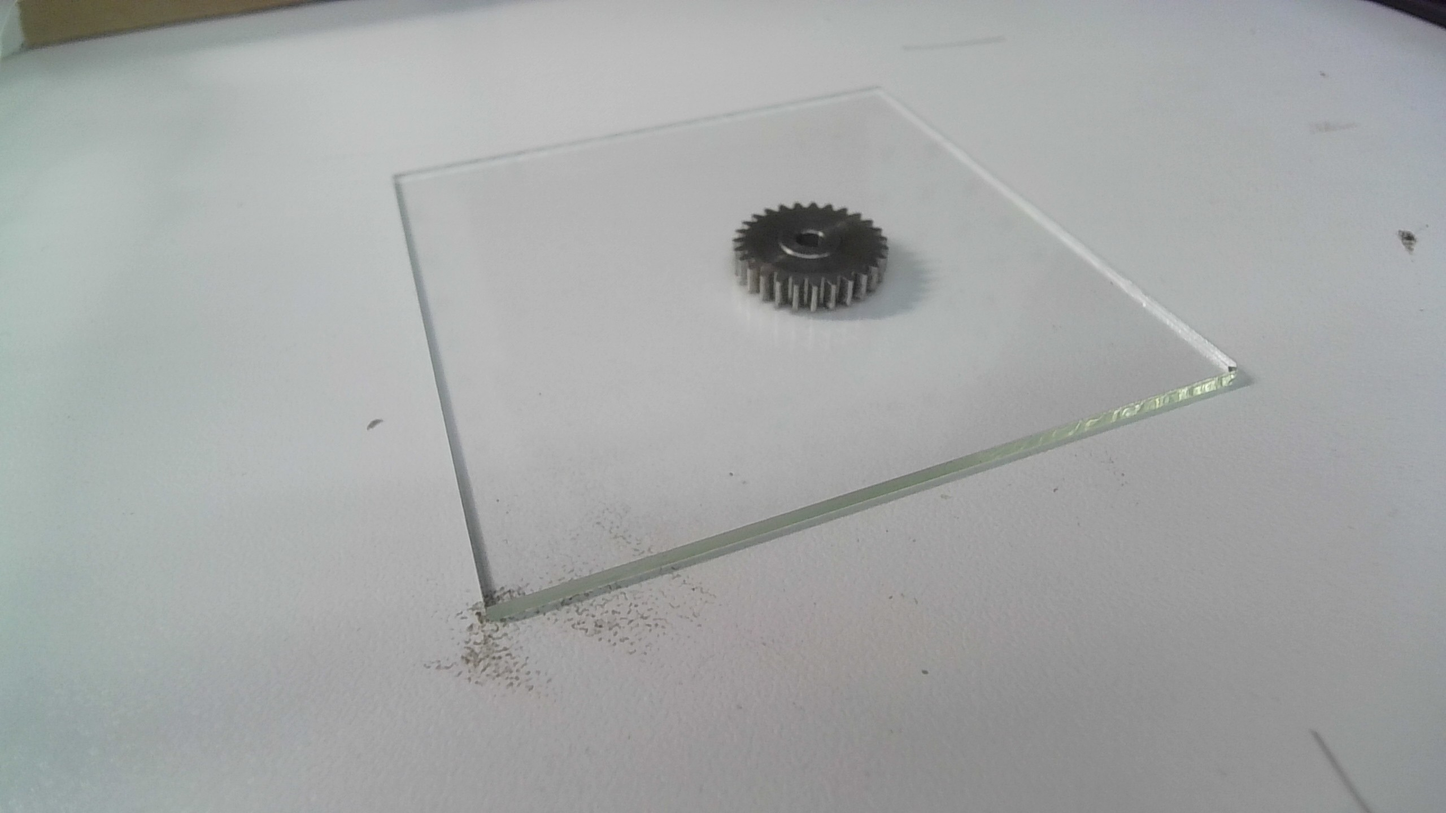gear: (728, 198, 895, 317)
